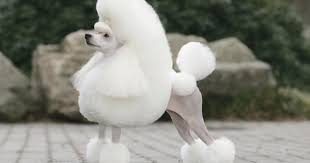Poodle: (45, 1, 245, 163)
